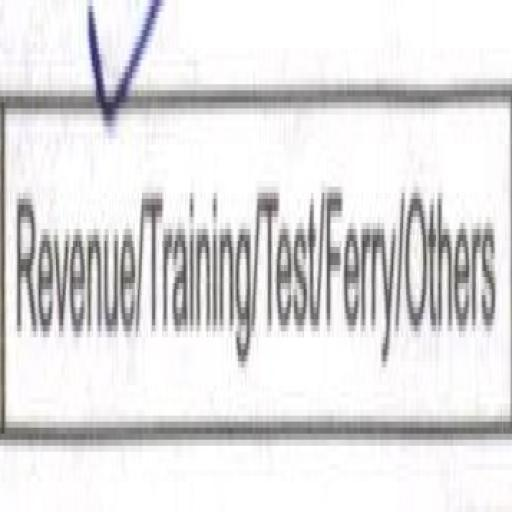check: (0, 0, 139, 436)
